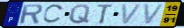C: (41, 4, 65, 25)
Q: (68, 4, 92, 25)
R: (19, 4, 44, 25)
T: (96, 4, 115, 25)
V: (143, 3, 167, 25), (120, 3, 144, 25)
